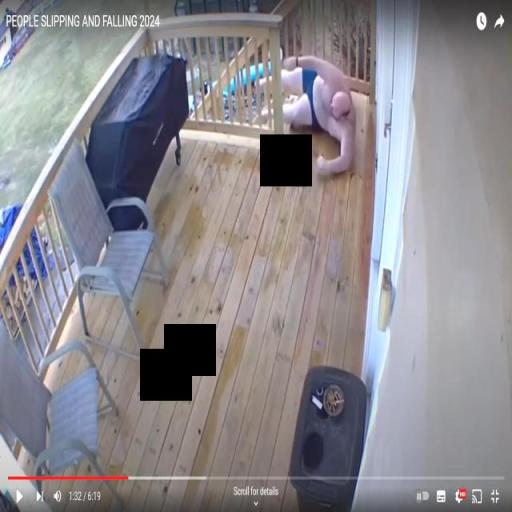Fall: (251, 49, 359, 184)
